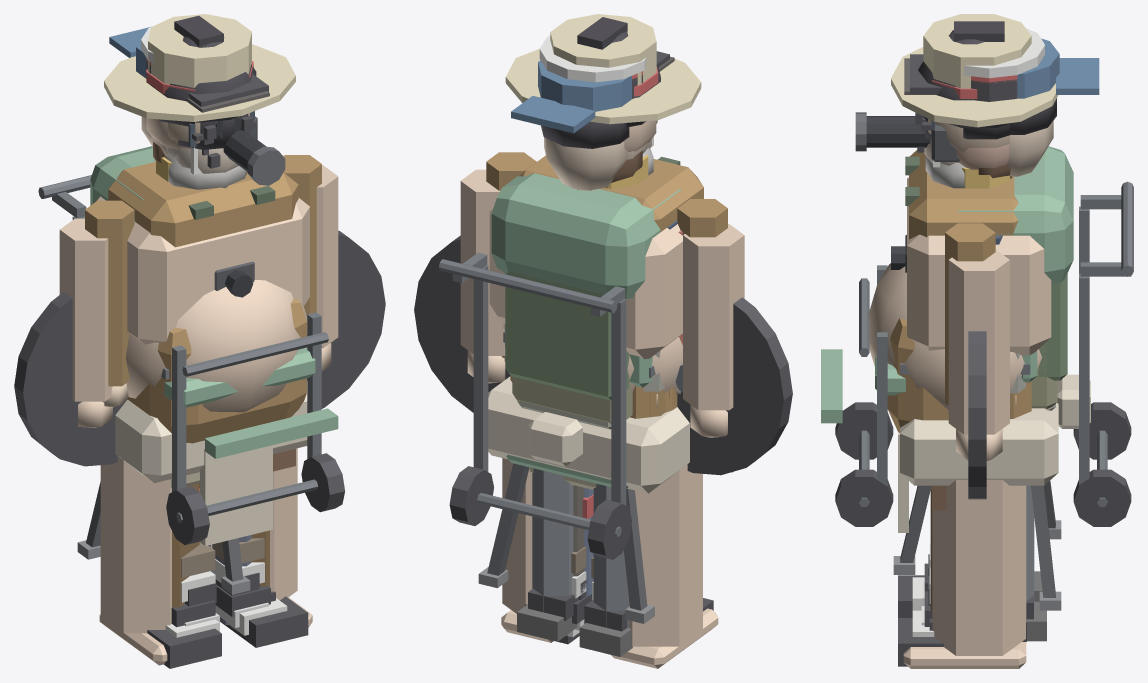
File: passengers.glb
3 renders of one model, left to right at view 1: azimuth 30°, elevation 25°; view 2: azimuth 150°, elevation 25°; view 3: azimuth 270°, elevation 25°, orthographic.
Parts seen in each view (by area): view 1: sumo, bigman, stroller, bicycle, tourist, toritetsu, grandma, runner, tripod, salaryman, stationmaster, student (+3 smaller); view 2: sumo, stroller, toritetsu, bigman, bicycle, tourist, tripod, chikan, stationmaster, salaryman, child, grandma (+1 smaller); view 3: sumo, stroller, bigman, toritetsu, tourist, tripod, stationmaster, bicycle, drunk, grandma, child, chikan (+1 smaller).
Part boxes in pixels (x1,y1,x2,y2): sumo: (59, 15, 338, 665); bigman: (85, 36, 321, 668); stroller: (38, 146, 344, 544); bicycle: (14, 230, 385, 466); tourist: (104, 14, 295, 637); toritetsu: (109, 26, 285, 185); grandma: (164, 155, 264, 577); runner: (174, 114, 268, 631); tripod: (77, 116, 250, 594); salaryman: (151, 136, 295, 627); stationmaster: (141, 25, 275, 601); student: (181, 119, 264, 602); sumo: (460, 17, 744, 668); stroller: (439, 173, 733, 559); toritetsu: (511, 60, 664, 656); bigman: (486, 32, 727, 644); bicycle: (414, 235, 792, 475); tourist: (505, 14, 701, 637); tripod: (478, 463, 654, 623); chikan: (528, 56, 674, 631); stationmaster: (525, 36, 677, 605); salaryman: (572, 143, 648, 624); child: (582, 154, 648, 518); grandma: (571, 148, 653, 578); sumo: (868, 21, 1090, 668); stroller: (821, 146, 1133, 526); bigman: (887, 30, 1067, 666); toritetsu: (855, 38, 1099, 641); tourist: (891, 14, 1058, 636); tripod: (893, 480, 1061, 610); stationmaster: (910, 28, 1044, 641); bicycle: (968, 331, 986, 499); drunk: (924, 124, 1010, 626); grandma: (925, 155, 965, 188); child: (962, 167, 1011, 188); chikan: (904, 58, 1033, 619).
Size of the model in its own units: 1.18 by 1.85 by 0.8675.
